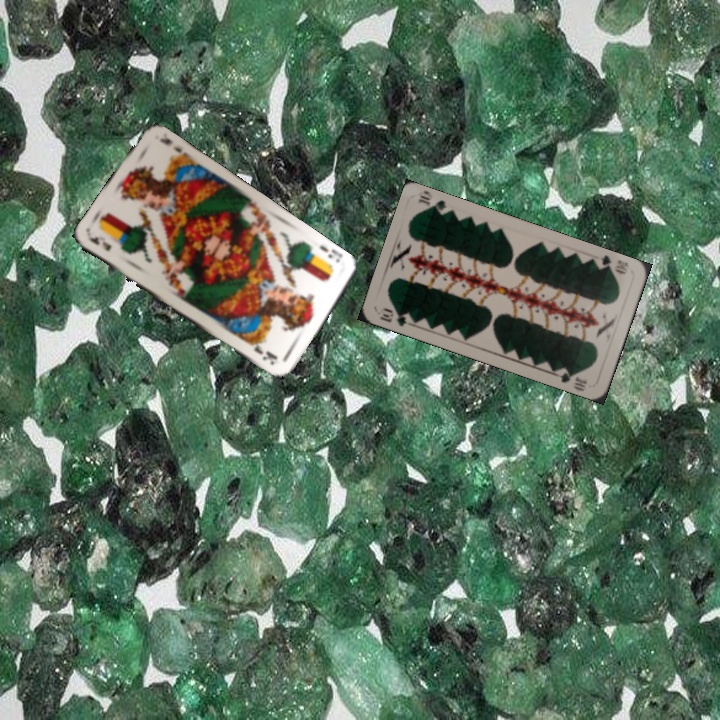EK: (315, 241, 344, 265), (86, 233, 114, 254)
G10: (376, 304, 416, 329), (596, 251, 631, 277)
